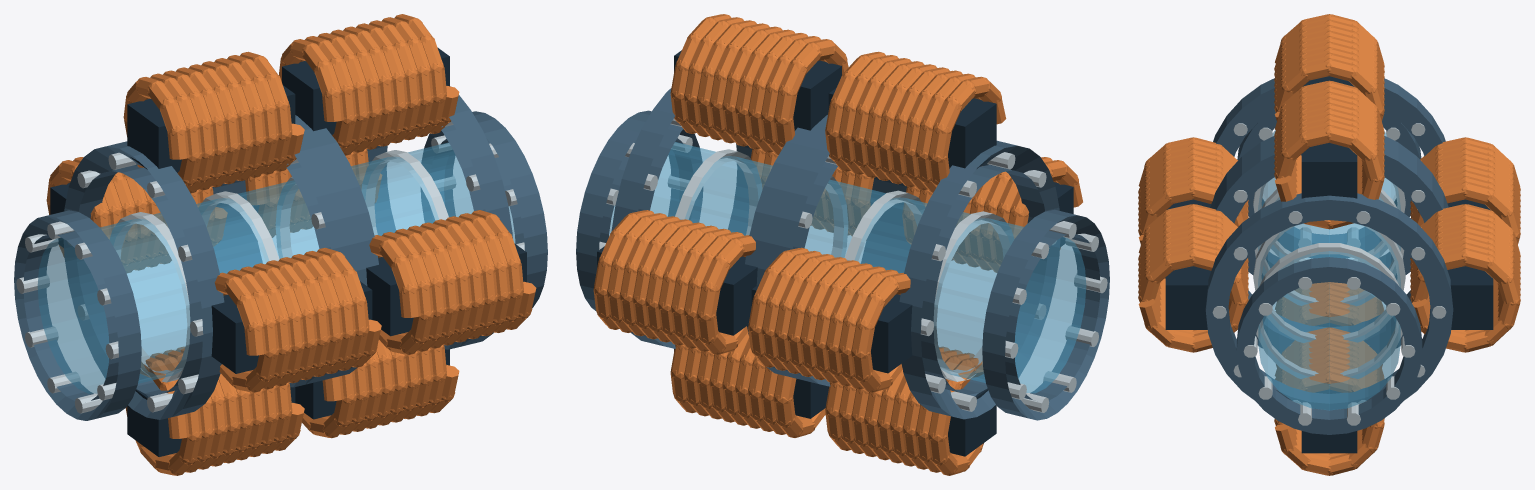
File: 13_L75_QuadrupoleBeamFocusingLens.fbx
3 views of the same model, side by side, from view 1: azimuth 30°, elevation 25°; view 2: azimuth 150°, elevation 25°; view 3: azimuth 270°, elevation 25° (orthographic). The views are drawn at different scales.
Parts seen in each view (by area): view 1: QuadrupoleBeamFocusingLens, QuadrupoleBeamFocusingLens_Part_0891, QuadrupoleBeamFocusingLens_Part_0902, QuadrupoleBeamFocusingLens_Part_1788, QuadrupoleBeamFocusingLens_Part_1777, QuadrupoleBeamFocusingLens_Part_0458, QuadrupoleBeamFocusingLens_Part_0242, QuadrupoleBeamFocusingLens_Part_1128, QuadrupoleBeamFocusingLens_Part_1344, QuadrupoleBeamFocusingLens_Part_0890, QuadrupoleBeamFocusingLens_Part_1776; view 2: QuadrupoleBeamFocusingLens, QuadrupoleBeamFocusingLens_Part_0891, QuadrupoleBeamFocusingLens_Part_0902, QuadrupoleBeamFocusingLens_Part_1788, QuadrupoleBeamFocusingLens_Part_1777, QuadrupoleBeamFocusingLens_Part_0458, QuadrupoleBeamFocusingLens_Part_0674, QuadrupoleBeamFocusingLens_Part_1560, QuadrupoleBeamFocusingLens_Part_1344, QuadrupoleBeamFocusingLens_Part_0890, QuadrupoleBeamFocusingLens_Part_1776; view 3: QuadrupoleBeamFocusingLens, QuadrupoleBeamFocusingLens_Part_1788, QuadrupoleBeamFocusingLens_Part_1777, QuadrupoleBeamFocusingLens_Part_0891, QuadrupoleBeamFocusingLens_Part_1344, QuadrupoleBeamFocusingLens_Part_1128, QuadrupoleBeamFocusingLens_Part_1560, QuadrupoleBeamFocusingLens_Part_0902, QuadrupoleBeamFocusingLens_Part_1776, QuadrupoleBeamFocusingLens_Part_1020, QuadrupoleBeamFocusingLens_Part_1668, QuadrupoleBeamFocusingLens_Part_0342 (+10 smaller).
Part boxes in pixels (x1,y1,x2,y2): QuadrupoleBeamFocusingLens: (14, 111, 547, 420); QuadrupoleBeamFocusingLens_Part_0891: (64, 141, 224, 419); QuadrupoleBeamFocusingLens_Part_0902: (212, 133, 358, 387); QuadrupoleBeamFocusingLens_Part_1788: (367, 86, 512, 349); QuadrupoleBeamFocusingLens_Part_1777: (231, 115, 378, 378); QuadrupoleBeamFocusingLens_Part_0458: (127, 85, 295, 172); QuadrupoleBeamFocusingLens_Part_0242: (211, 281, 372, 373); QuadrupoleBeamFocusingLens_Part_1128: (366, 243, 526, 336); QuadrupoleBeamFocusingLens_Part_1344: (282, 47, 449, 134); QuadrupoleBeamFocusingLens_Part_0890: (127, 387, 295, 456); QuadrupoleBeamFocusingLens_Part_1776: (295, 349, 449, 419); QuadrupoleBeamFocusingLens: (576, 110, 1109, 420); QuadrupoleBeamFocusingLens_Part_0891: (899, 140, 1059, 419); QuadrupoleBeamFocusingLens_Part_0902: (766, 126, 910, 386); QuadrupoleBeamFocusingLens_Part_1788: (611, 88, 752, 348); QuadrupoleBeamFocusingLens_Part_1777: (745, 115, 892, 378); QuadrupoleBeamFocusingLens_Part_0458: (828, 88, 996, 168); QuadrupoleBeamFocusingLens_Part_0674: (751, 284, 912, 373); QuadrupoleBeamFocusingLens_Part_1560: (597, 246, 757, 335); QuadrupoleBeamFocusingLens_Part_1344: (674, 50, 841, 130); QuadrupoleBeamFocusingLens_Part_0890: (828, 386, 996, 456); QuadrupoleBeamFocusingLens_Part_1776: (674, 349, 828, 418); QuadrupoleBeamFocusingLens: (1236, 110, 1422, 434); QuadrupoleBeamFocusingLens_Part_1788: (1205, 193, 1453, 409); QuadrupoleBeamFocusingLens_Part_1777: (1213, 145, 1445, 353); QuadrupoleBeamFocusingLens_Part_0891: (1213, 78, 1445, 279); QuadrupoleBeamFocusingLens_Part_1344: (1301, 143, 1357, 198); QuadrupoleBeamFocusingLens_Part_1128: (1165, 266, 1210, 329); QuadrupoleBeamFocusingLens_Part_1560: (1447, 266, 1493, 329); QuadrupoleBeamFocusingLens_Part_0902: (1210, 136, 1448, 332); QuadrupoleBeamFocusingLens_Part_1776: (1301, 389, 1357, 453); QuadrupoleBeamFocusingLens_Part_1020: (1138, 299, 1161, 328); QuadrupoleBeamFocusingLens_Part_1668: (1275, 424, 1297, 451); QuadrupoleBeamFocusingLens_Part_0342: (1328, 58, 1354, 81).
Size of the model in its own units: 142 by 124 by 124.
